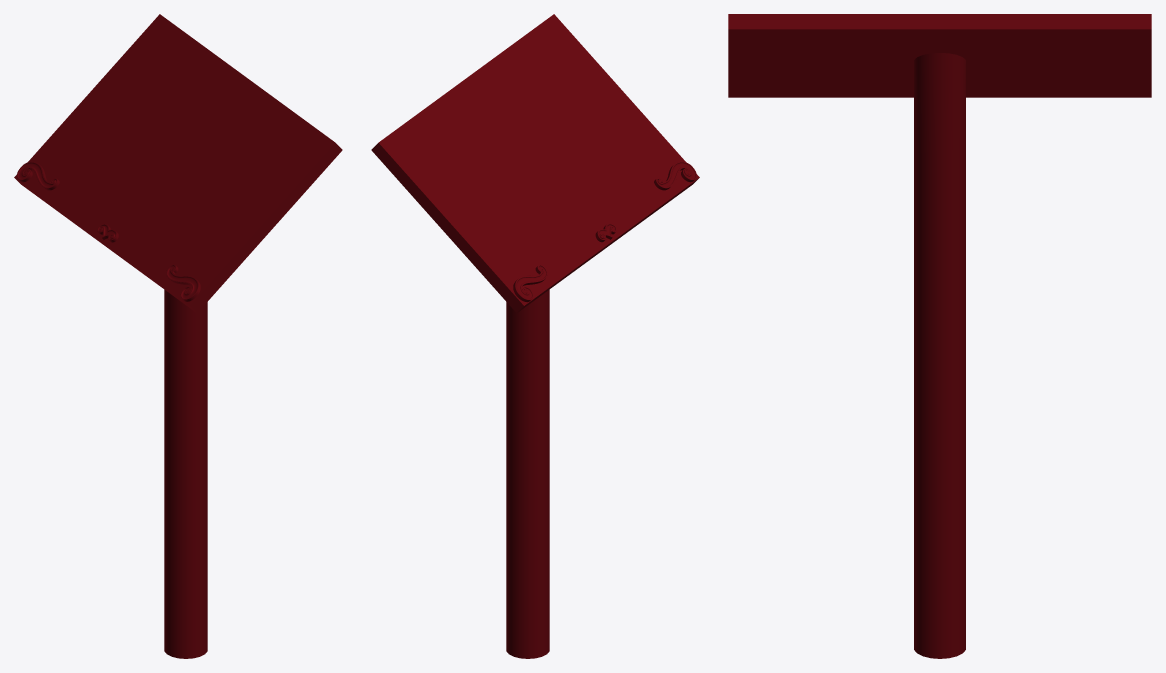
Rendered from PlacaGroup.FBX.
The picture shows the model from 3 angles, left to right: view 1: azimuth 30°, elevation 25°; view 2: azimuth 150°, elevation 25°; view 3: azimuth 270°, elevation 25°; orthographic projection. The views are drawn at different scales.
Visible parts, largest first — view 1: Box030, Cylinder003, tipo0-009, tipo0-010; view 2: Box030, Cylinder003, tipo0-010, tipo0-009; view 3: Box030, Cylinder003.
Boxes of the visible parts, box(x1,y1,x2,y2) form: Box030: box(14, 14, 342, 312); Cylinder003: box(164, 289, 207, 658); tipo0-009: box(166, 264, 200, 301); tipo0-010: box(17, 161, 59, 190); Box030: box(371, 14, 699, 312); Cylinder003: box(506, 289, 549, 658); tipo0-010: box(513, 264, 547, 302); tipo0-009: box(654, 161, 696, 190); Box030: box(728, 14, 1151, 97); Cylinder003: box(914, 53, 965, 658).
Size of the model in its own units: 16.02 by 55.02 by 31.5.
